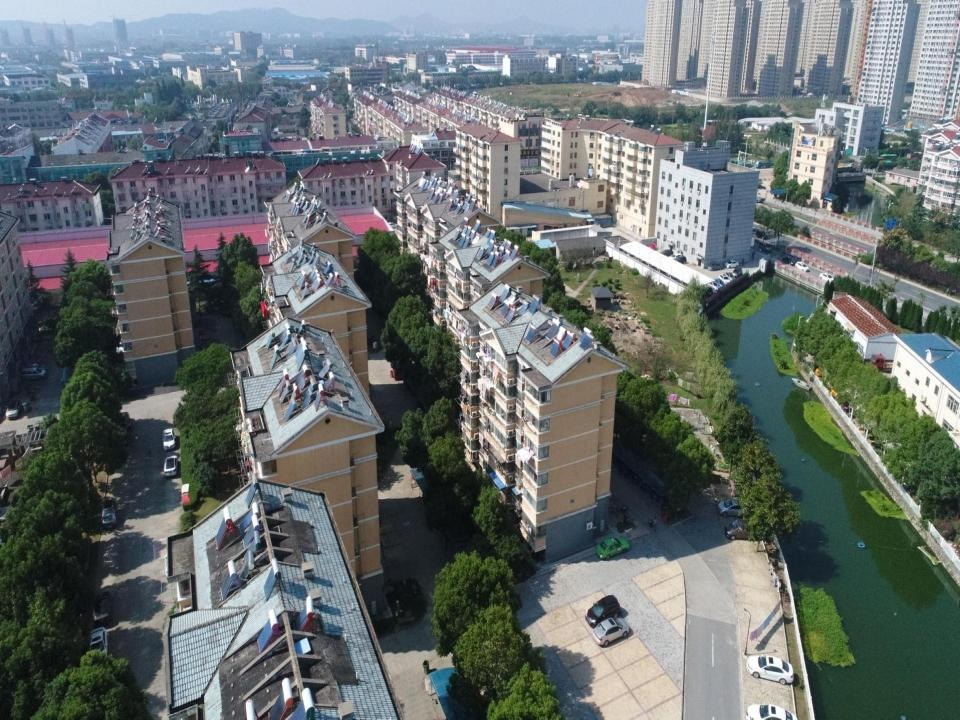bus: (878, 153, 898, 166)
car: (745, 652, 796, 686), (592, 615, 630, 648), (586, 596, 623, 629), (595, 535, 630, 560), (745, 703, 796, 719), (92, 591, 113, 627), (725, 519, 758, 541), (89, 627, 108, 663), (718, 498, 749, 518), (102, 499, 118, 530), (6, 398, 23, 420), (162, 427, 176, 451), (163, 455, 178, 477), (23, 363, 46, 374), (703, 278, 721, 292), (818, 271, 834, 285), (755, 228, 771, 240), (781, 254, 796, 266), (794, 261, 809, 273), (706, 261, 723, 271), (724, 259, 739, 269), (724, 270, 736, 282), (719, 273, 731, 285), (712, 278, 726, 288), (732, 266, 742, 278)
truck: (740, 187, 765, 203), (755, 159, 775, 169)
van: (21, 367, 47, 381), (758, 239, 772, 253)
